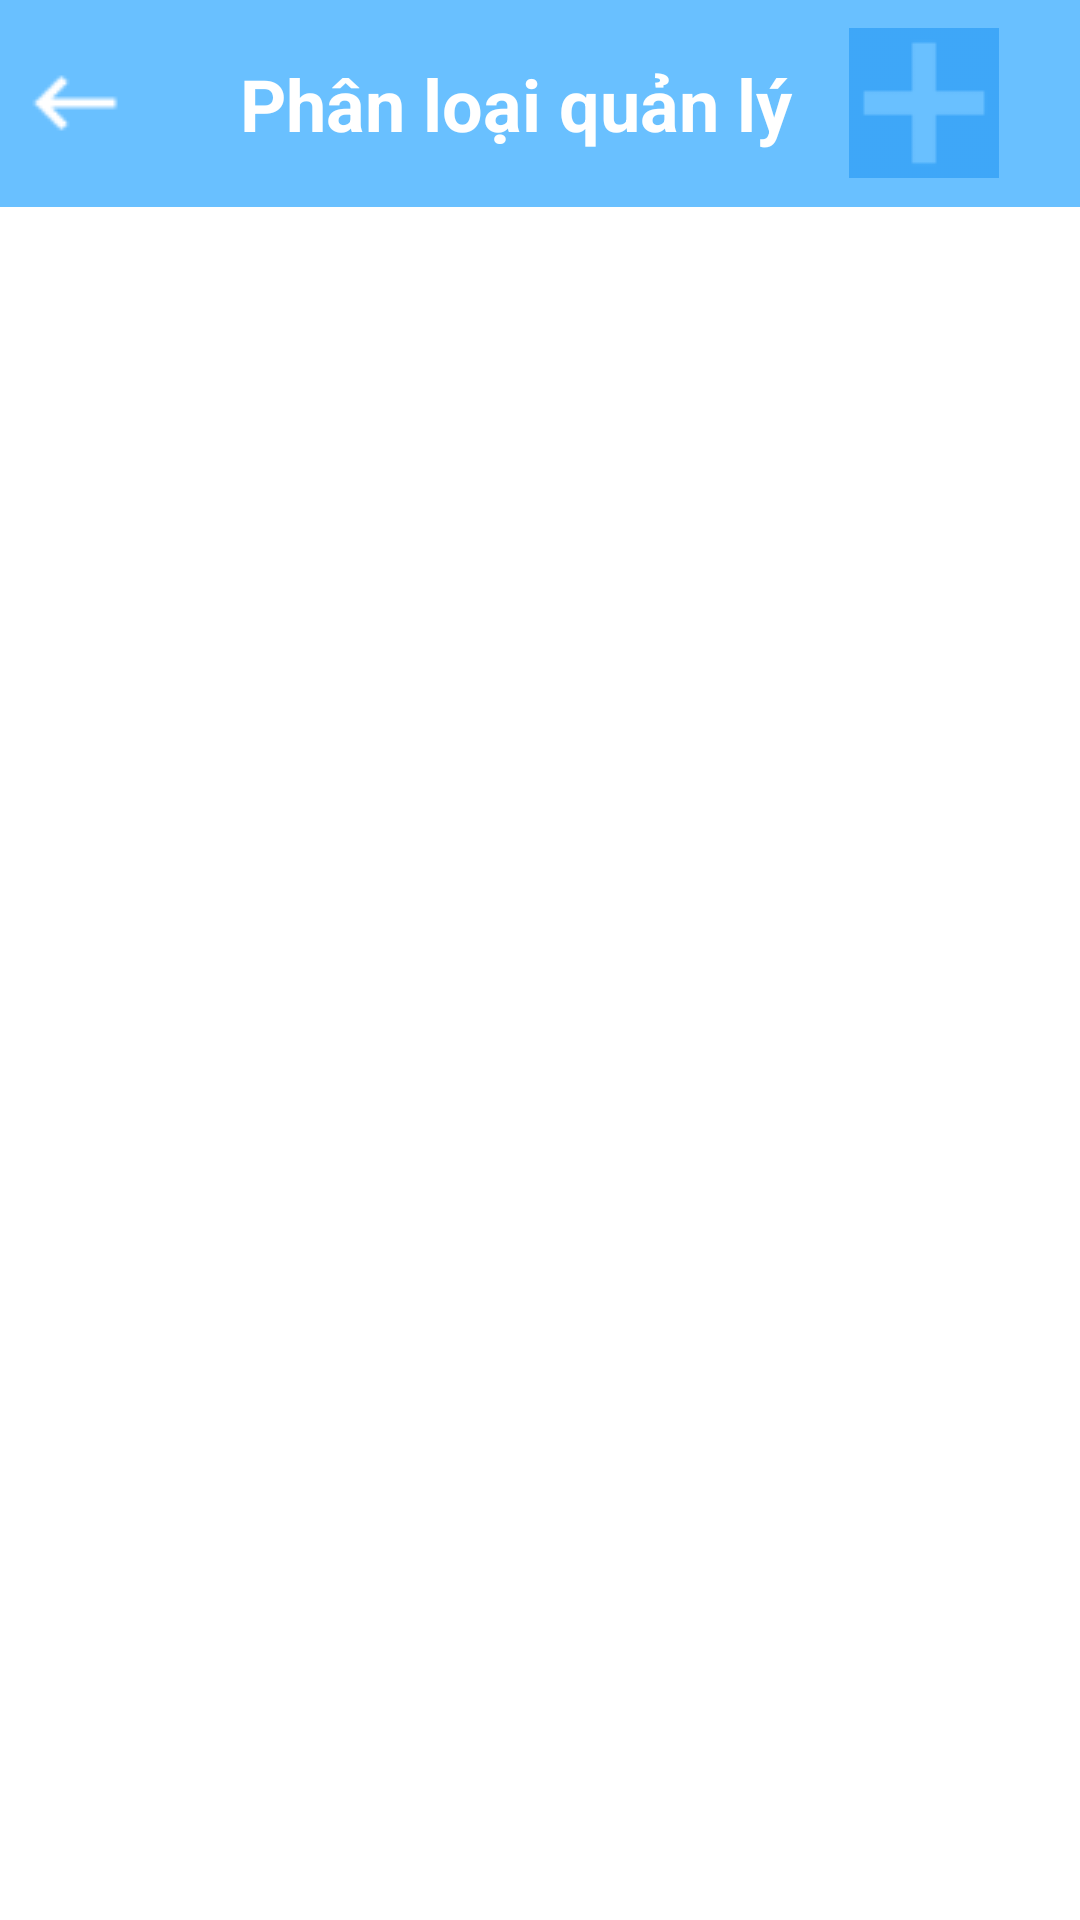

Named icons in this screenshot (1080x1920) and their bounding boxes, [x1,y1,x2,y2]:
quaylai: [34,75,118,131]
them: [849,28,999,178]
